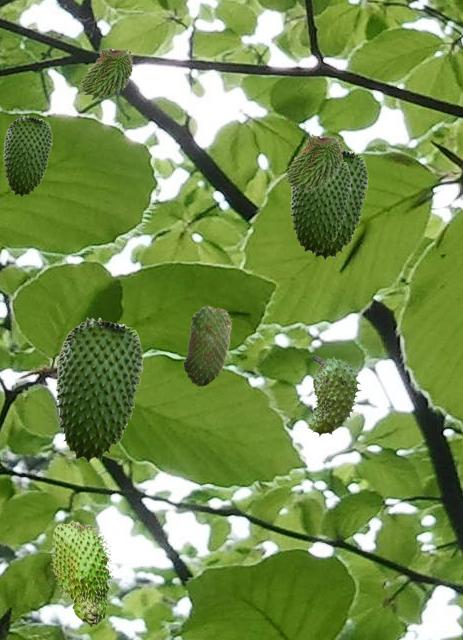guyabano: (55, 317, 142, 462), (50, 520, 113, 626), (310, 150, 367, 259), (290, 159, 350, 253), (306, 355, 361, 436), (183, 305, 231, 386), (3, 115, 51, 196), (284, 133, 342, 191), (79, 46, 132, 99)
